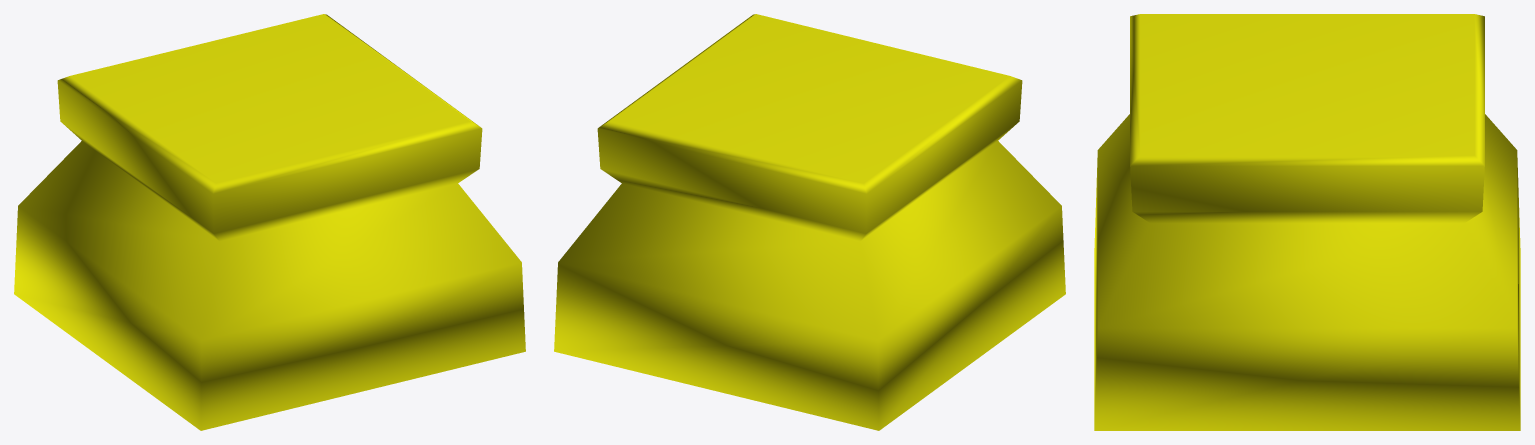
The model's file is S_Pillar_03_A.fbx.
3 views of the same model, side by side, from view 1: azimuth 30°, elevation 25°; view 2: azimuth 150°, elevation 25°; view 3: azimuth 270°, elevation 25° (orthographic). The views are drawn at different scales.
Parts seen in each view (by area): view 1: S_Pillar_03_A; view 2: S_Pillar_03_A; view 3: S_Pillar_03_A.
Boxes of the visible parts, bbox=[...] form: S_Pillar_03_A: bbox=[14, 14, 525, 430]; S_Pillar_03_A: bbox=[554, 14, 1065, 430]; S_Pillar_03_A: bbox=[1094, 14, 1520, 430].
Size of the model in its own units: 60.95 by 40.19 by 60.67.
